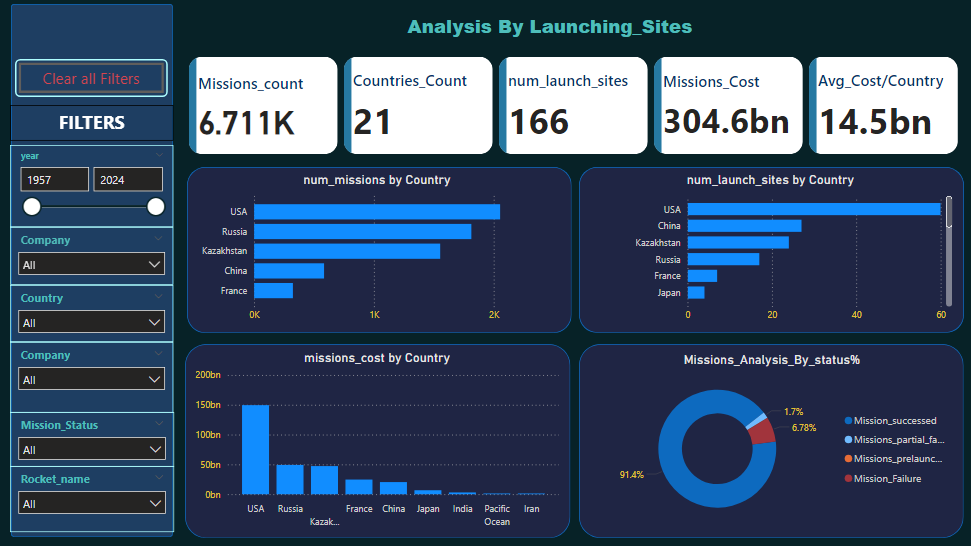

The page's visual inventory and layout, read from the dashboard file:
{"tool":"powerbi","page":{"name":"Launching_Sites_Analysis","canvas":[1280,720],"ordinal":1},"visuals":[{"type":"shape","box":[246.2,220,506.2,218.5],"z":0},{"type":"shape","box":[244,452.2,507.1,255.5],"z":1000},{"type":"shape","box":[761.8,219.7,506.6,218.4],"z":2000},{"type":"textbox","box":[346.3,11.9,755.2,44.8],"z":3000},{"type":"cardVisual","fields":{"Data":["KPIs.num_missions","KPIs.num_country_launch","KPIs.num_launch_sites","KPIs.missions_cost","KPIs.AVG_Cost_per_country"]},"box":[243.3,70.1,1025.4,138.8],"z":4000},{"type":"clusteredBarChart","fields":{"Category":["Location_Dim.Country"],"Y":["KPIs.num_missions"]},"box":[250.8,226.2,489.2,206.2],"z":5000},{"type":"clusteredBarChart","fields":{"Category":["Location_Dim.Country"],"Y":["KPIs.num_launch_sites"]},"box":[770.1,226.9,488.1,206],"z":6000},{"type":"shape","box":[761.5,452.3,506.2,255.4],"z":7000},{"type":"donutChart","title":"Missions_Analysis_By_status%","fields":{"Y":["KPIs.Mission_successed","KPIs.Missions_partial_failure","KPIs.Missions_prelaunch_failure","KPIs.Mission_Failure"]},"box":[772.4,463.2,486.8,235.5],"z":8000},{"type":"lineClusteredColumnComboChart","fields":{"Category":["Location_Dim.Country"],"Y":["KPIs.missions_cost"]},"box":[251.3,460.5,489.5,240.8],"z":9000},{"type":"shape","box":[14.5,5.8,213,701.4],"z":11000},{"type":"slicer","fields":{"Values":["Location_Dim.Country"]},"box":[13,374.8,214.7,74.8],"z":12000},{"type":"slicer","fields":{"Values":["Company_Dim.Company"]},"box":[13,449.6,214.7,93.1],"z":13000},{"type":"slicer","fields":{"Values":["MissionStatus_Dim.Mission_Status"]},"box":[13,542,215.9,72.5],"z":14000},{"type":"slicer","fields":{"Values":["Rocket_Dim.Rocket_name"]},"box":[13,613,215.9,87],"z":15000},{"type":"slicer","fields":{"Values":["Date_Launch_Dim.year"]},"box":[13,190.2,214.7,108.4],"z":16000},{"type":"slicer","fields":{"Values":["Company_Dim.Company"]},"box":[13,298.5,214.7,76.3],"z":17000},{"type":"textbox","box":[13.7,137.7,215.3,47],"z":18000},{"type":"actionButton","box":[20.3,77.7,200.8,49.6],"z":19000}]}

Visuals, with their boxes in screenshot pixels (x1, y1, x2, y2), scaled from the page's 1280x720 canvas onto the 971x546 screenshot:
shape: 187 167 571 333
shape: 185 343 570 537
shape: 578 167 962 332
textbox: 263 9 836 43
cardVisual - KPIs.num_missions x KPIs.num_country_launch: 185 53 962 158
clusteredBarChart - Location_Dim.Country x KPIs.num_missions: 190 172 561 328
clusteredBarChart - Location_Dim.Country x KPIs.num_launch_sites: 584 172 954 328
shape: 578 343 962 537
"Missions_Analysis_By_status%" donutChart: 586 351 955 530
lineClusteredColumnComboChart - Location_Dim.Country x KPIs.missions_cost: 191 349 562 532
shape: 11 4 173 536
slicer - Location_Dim.Country: 10 284 173 341
slicer - Company_Dim.Company: 10 341 173 412
slicer - MissionStatus_Dim.Mission_Status: 10 411 174 466
slicer - Rocket_Dim.Rocket_name: 10 465 174 531
slicer - Date_Launch_Dim.year: 10 144 173 226
slicer - Company_Dim.Company: 10 226 173 284
textbox: 10 104 174 140
actionButton: 15 59 168 97
